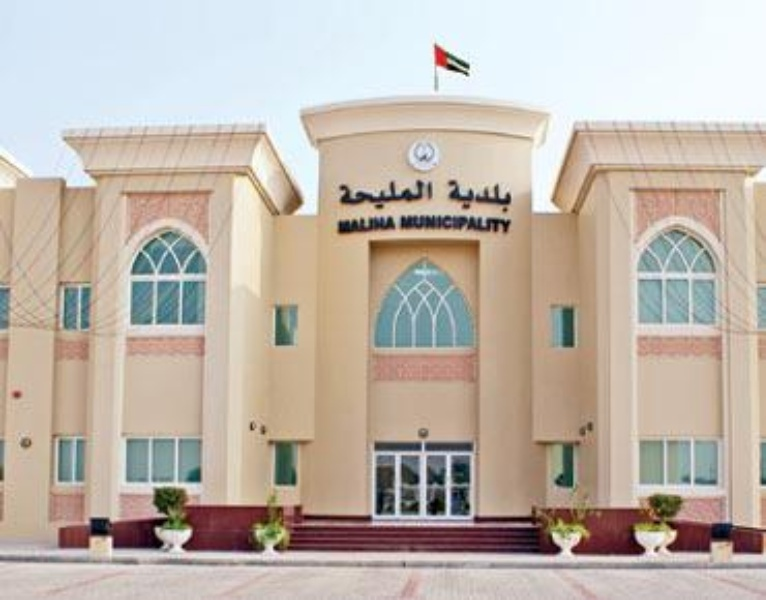text: (449, 178, 464, 214), (465, 178, 480, 214), (481, 178, 496, 214), (497, 178, 512, 214), (353, 176, 368, 212), (369, 176, 384, 212), (385, 176, 400, 212), (401, 176, 416, 212), (417, 176, 432, 212), (338, 176, 352, 212), (353, 214, 368, 234), (369, 214, 384, 234), (401, 214, 416, 234), (417, 214, 432, 234), (433, 214, 448, 234), (449, 214, 464, 234), (465, 214, 480, 234), (481, 214, 496, 234), (497, 214, 512, 234), (338, 214, 352, 234), (385, 214, 398, 234), (433, 176, 437, 212), (513, 178, 516, 214), (446, 178, 448, 214), (398, 214, 400, 234)
